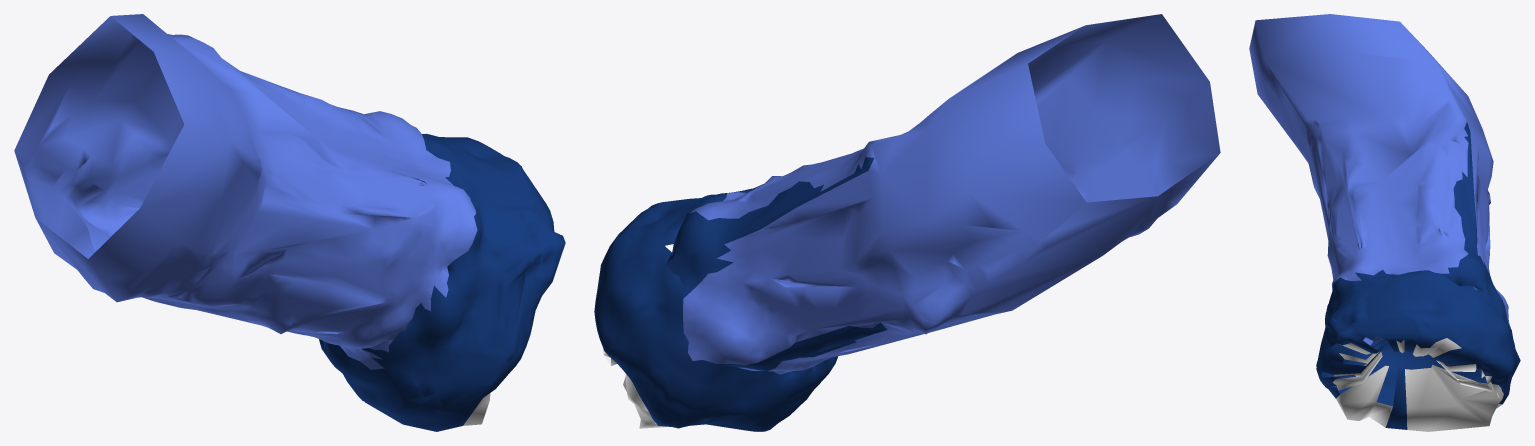
File: sleeve 1.fbx
3 renders of one model, left to right at view 1: azimuth 30°, elevation 25°; view 2: azimuth 150°, elevation 25°; view 3: azimuth 270°, elevation 25°, orthographic. The views are drawn at different scales.
Parts seen in each view (by area): view 1: DemonHandV2.Hand.001; view 2: DemonHandV2.Hand.001; view 3: DemonHandV2.Hand.001.
Part boxes in pixels (x1,y1,x2,y2): DemonHandV2.Hand.001: [14, 14, 565, 431]; DemonHandV2.Hand.001: [594, 14, 1220, 431]; DemonHandV2.Hand.001: [1249, 14, 1520, 431].
Bounding box in the file's own units: 26.55 × 21.99 × 17.55.
